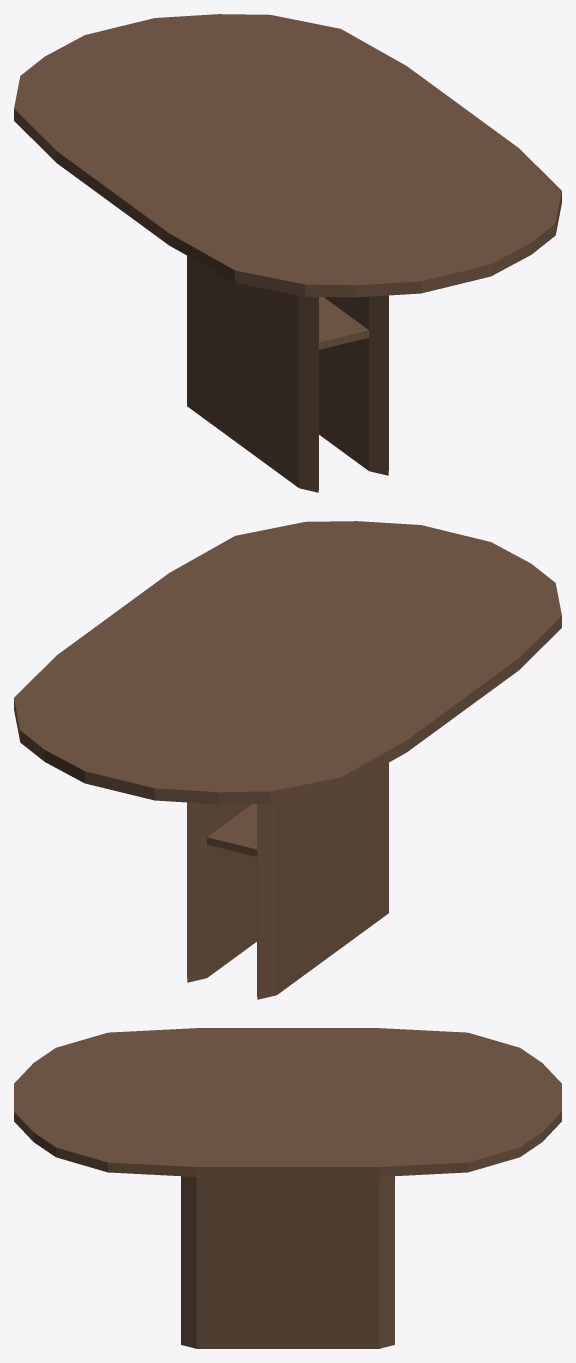
File: table_dean.fbx
3 views of the same model, one above another, from view 1: azimuth 30°, elevation 25°; view 2: azimuth 150°, elevation 25°; view 3: azimuth 270°, elevation 25° (orthographic). The views are drawn at different scales.
Parts seen in each view (by area): view 1: Cube.277; view 2: Cube.277; view 3: Cube.277.
Part boxes in pixels (box(x1,y1,x2,y2)): Cube.277: box(14, 14, 561, 492); Cube.277: box(14, 521, 561, 999); Cube.277: box(14, 1028, 561, 1348).
Size of the model in its own units: 60 by 47 by 100.
